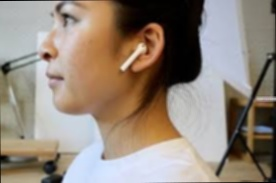earphone: (117, 22, 166, 73)
